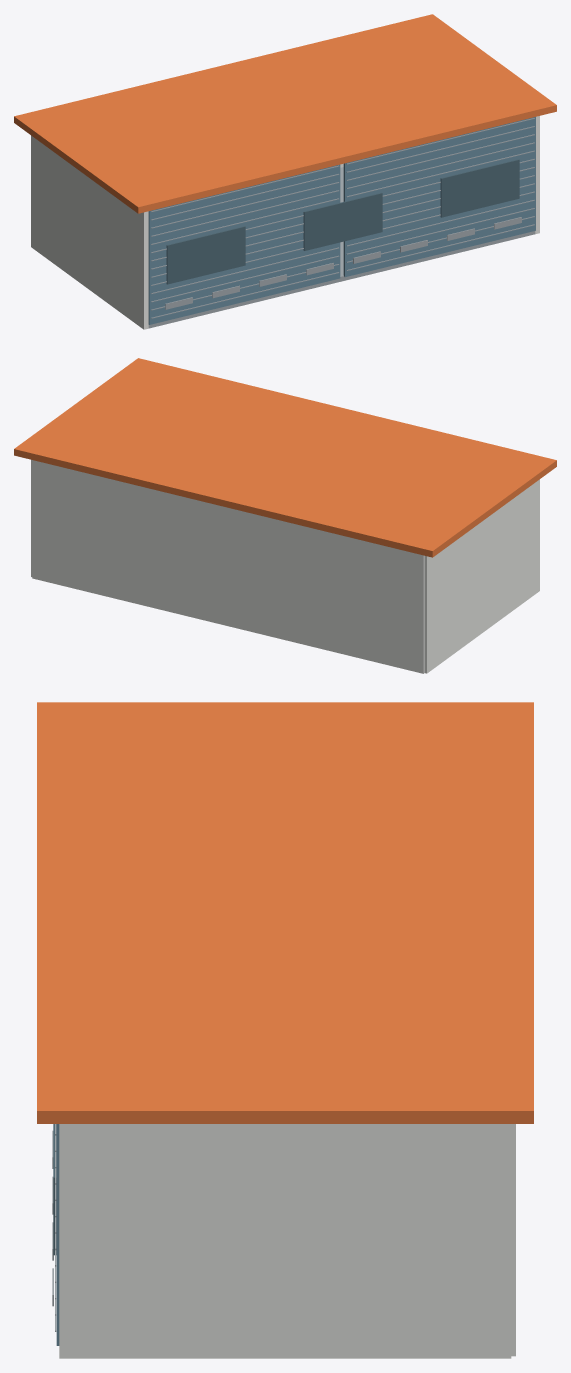
Rendered from long-haul-trucking-and-truck-stop-diner-building-81b1b19c__13975.glb.
The picture shows the model from 3 angles, top to bottom: view 1: azimuth 30°, elevation 25°; view 2: azimuth 150°, elevation 25°; view 3: azimuth 270°, elevation 25°; orthographic projection. The views are drawn at different scales.
Parts seen in each view (by area): view 1: diner-building; view 2: diner-building; view 3: diner-building.
Part boxes in pixels (x1,y1,x2,y2): diner-building: (14,14,556,329); diner-building: (14,358,556,673); diner-building: (37,702,533,1358).
Bounding box in the file's own units: 10.7 × 3.16 × 5.5.
